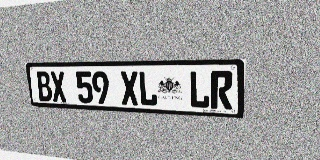5: (75, 71, 94, 103)
9: (91, 71, 110, 104)
B: (35, 71, 53, 102)
L: (189, 71, 210, 109), (138, 71, 158, 106)
R: (210, 71, 233, 110)
X: (120, 71, 139, 105), (49, 71, 67, 102)
